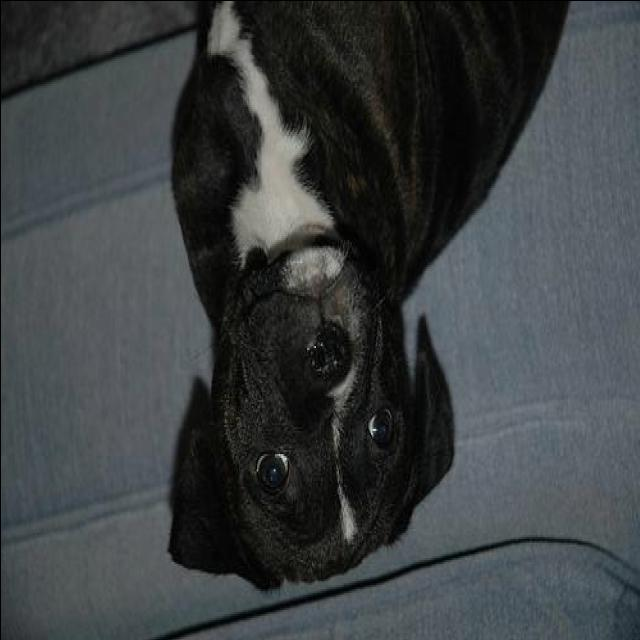staffordshire_bullterrier: (166, 2, 570, 600)
